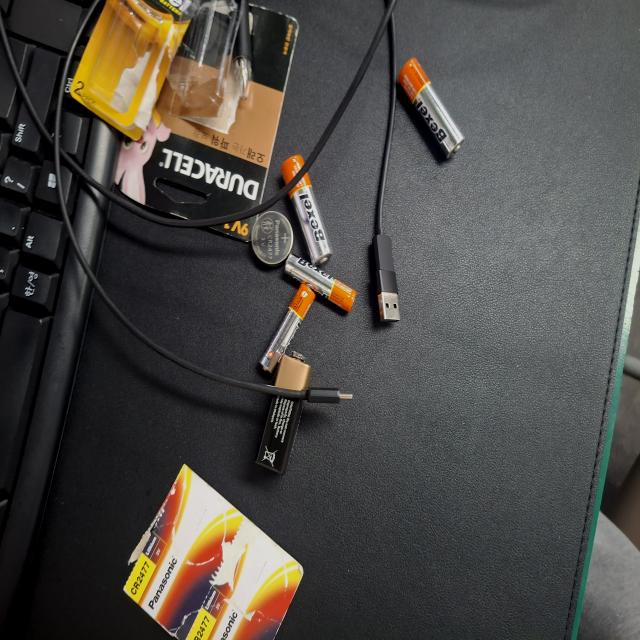9V: (263, 438, 351, 508)
AA: (43, 232, 121, 324), (115, 404, 203, 479)
AAA: (211, 431, 281, 507), (188, 374, 236, 474)
COIN: (158, 462, 202, 522)
